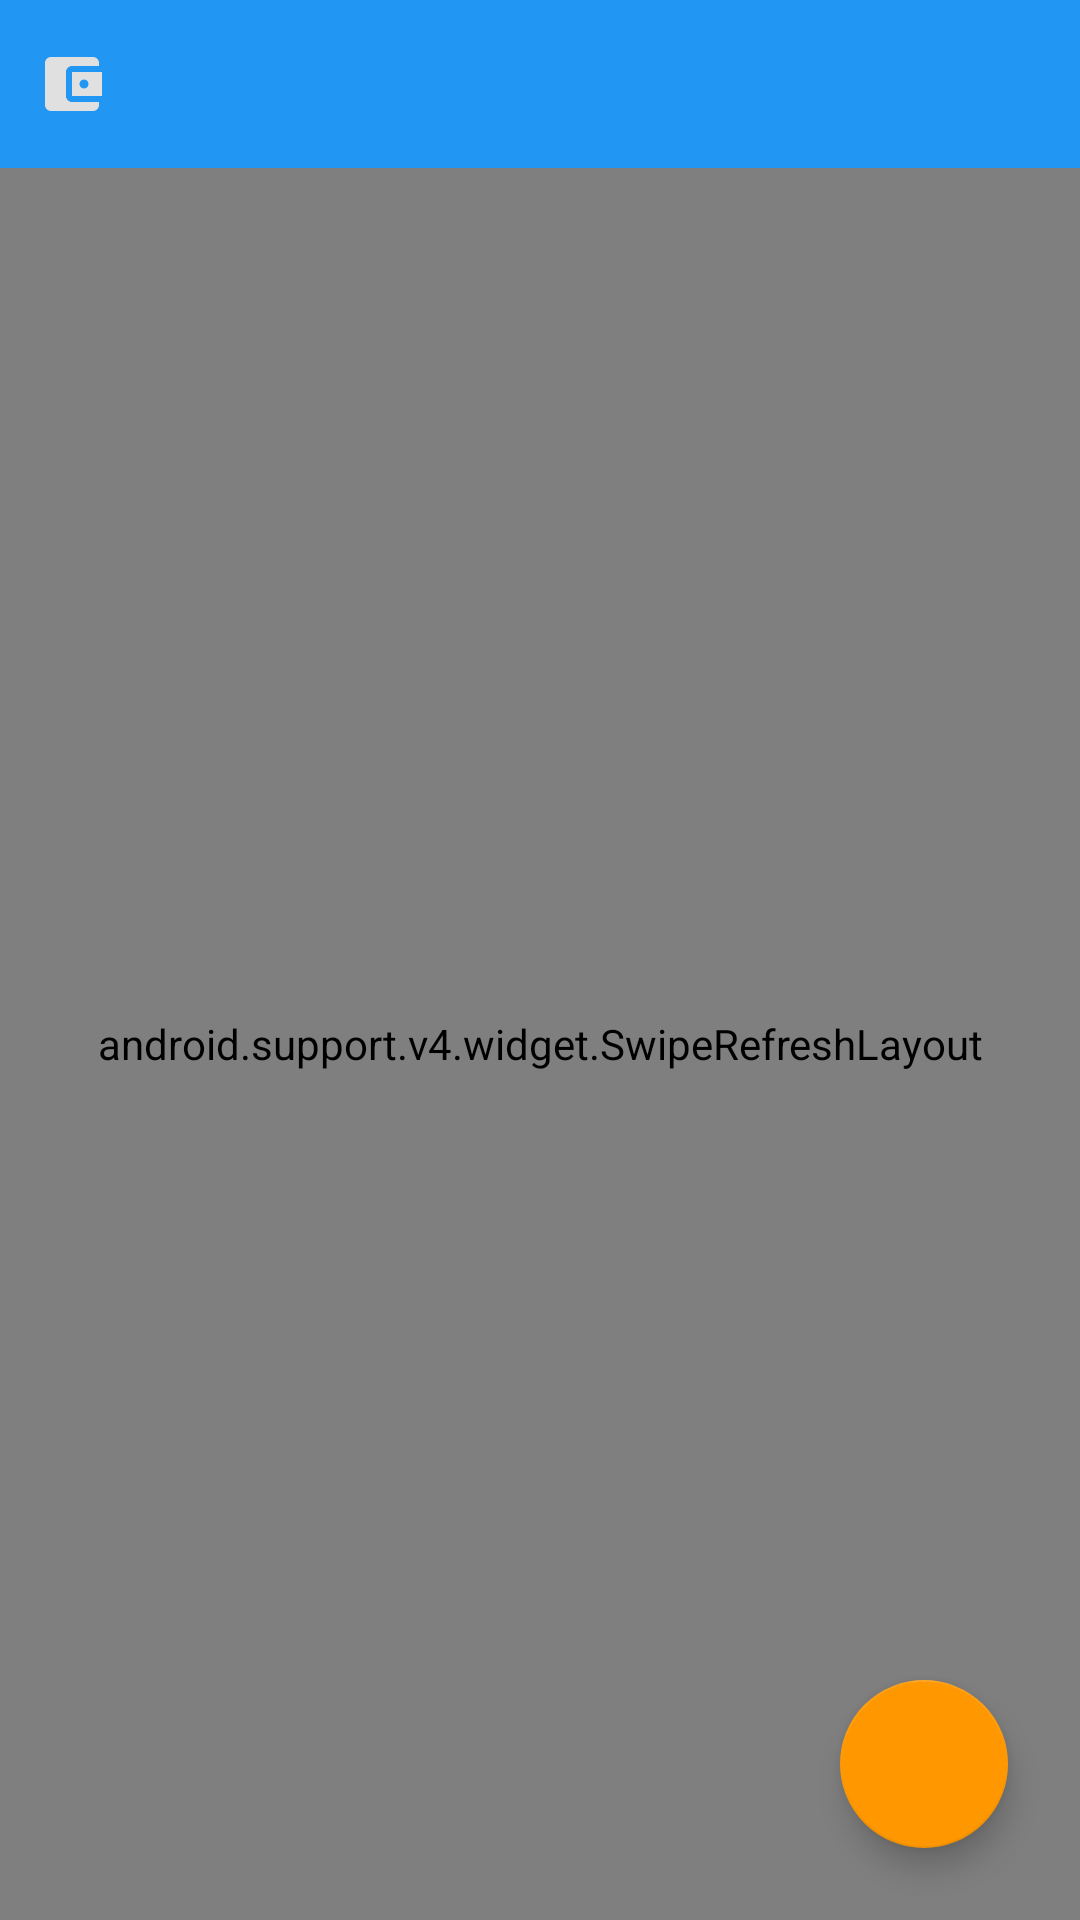

Locate icon controls on the screen. Image size 1080w x 1920h, boxes as (x1, y1, x2, y2).
account balance wallet: (45, 57, 102, 111)
